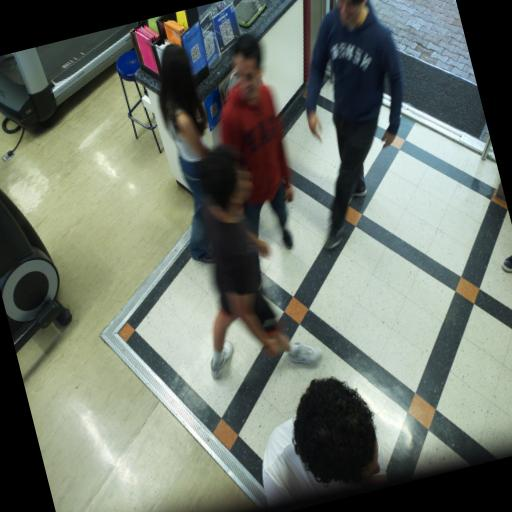person: (201, 147, 321, 379), (305, 0, 402, 248), (262, 378, 385, 506), (220, 34, 292, 248), (159, 45, 214, 262), (501, 255, 511, 272)
